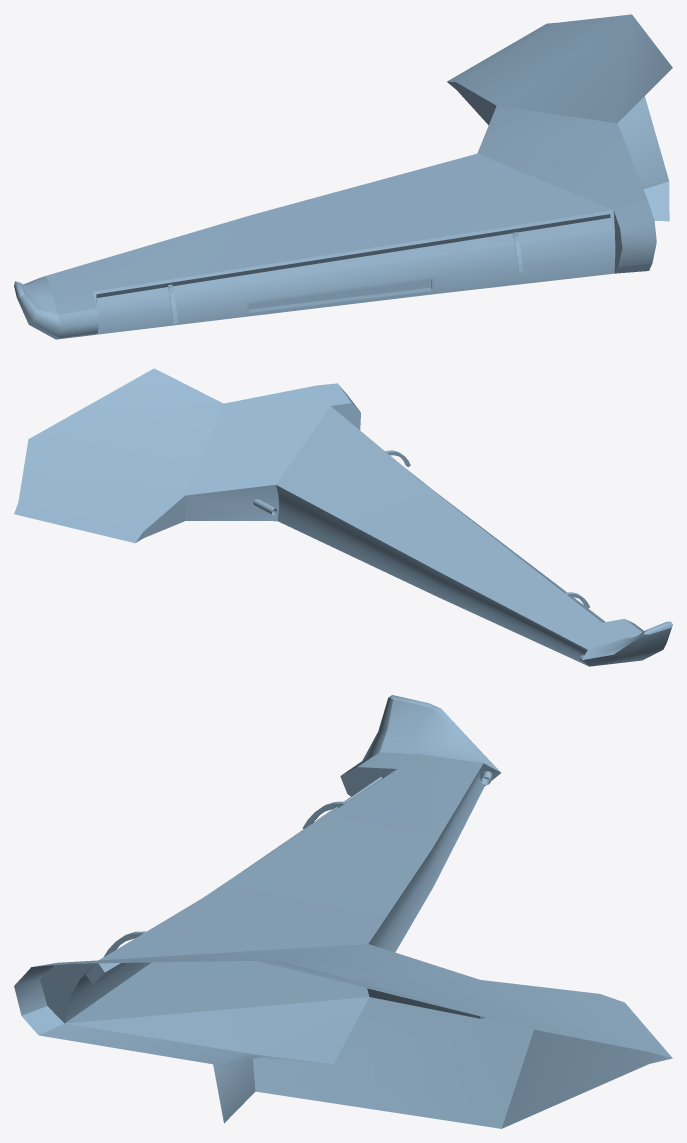
Rendered from big wing body Dwn R.FBX.
3 renders of one model, top to bottom at view 1: azimuth 30°, elevation 25°; view 2: azimuth 150°, elevation 25°; view 3: azimuth 270°, elevation 25°, orthographic. The views are drawn at different scales.
Visible parts, largest first — view 1: Box04; view 2: Box04; view 3: Box04.
Boxes of the visible parts, <box> form: Box04: <box>14,14,672,339</box>; Box04: <box>14,368,672,666</box>; Box04: <box>14,695,672,1128</box>.
Bounding box in the file's own units: 0.1813 × 0.1134 × 0.0408.
